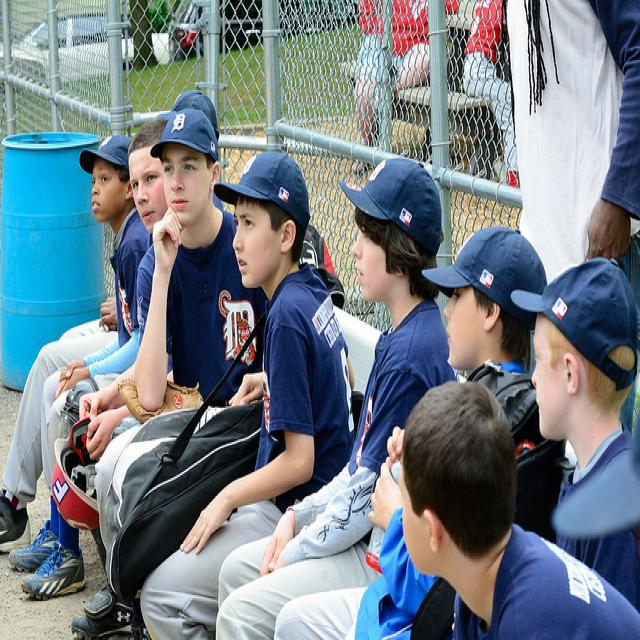Vehicle: (14, 13, 172, 82), (170, 1, 202, 58)
